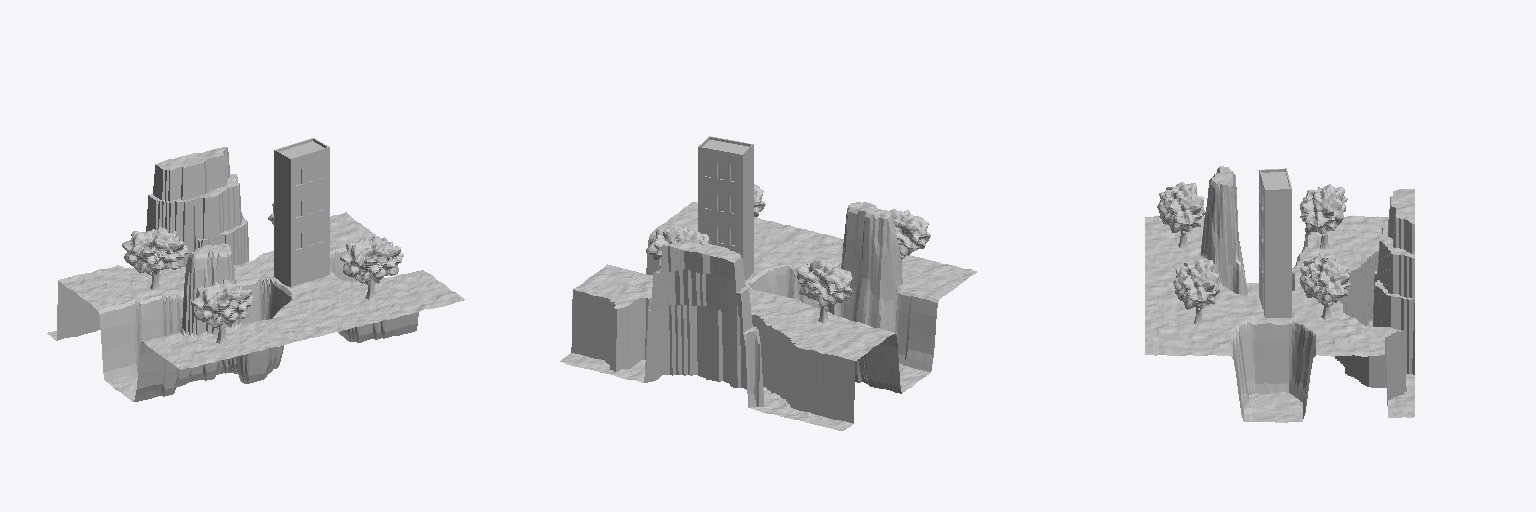
The model's file is chunk1.obj.
3 views of the same model, side by side, from view 1: azimuth 30°, elevation 25°; view 2: azimuth 150°, elevation 25°; view 3: azimuth 270°, elevation 25° (orthographic).
Visible parts, largest first — view 1: Terrain_Chunk_1, Terrain_Chunk_1_Sides, Building, Tree_Top.003, Tree_Top, Tree_Top.001; view 2: Terrain_Chunk_1, Terrain_Chunk_1_Sides, Building, Tree_Top.003, Tree_Top.001, Tree_Top.002; view 3: Terrain_Chunk_1, Building, Terrain_Chunk_1_Sides, Tree_Top.002, Tree_Top.001, Tree_Top, Tree_Top.003.
Boxes of the visible parts, box(x1,y1,x2,y2) form: Terrain_Chunk_1: box(83, 147, 438, 396); Terrain_Chunk_1_Sides: box(47, 212, 464, 401); Building: box(274, 138, 329, 286); Tree_Top.003: box(122, 227, 188, 275); Tree_Top: box(340, 235, 403, 283); Tree_Top.001: box(191, 279, 253, 327); Terrain_Chunk_1: box(584, 202, 950, 424); Terrain_Chunk_1_Sides: box(560, 202, 976, 430); Building: box(698, 136, 753, 279); Tree_Top.003: box(796, 259, 852, 307); Tree_Top.001: box(886, 209, 930, 256); Tree_Top.002: box(646, 226, 708, 266); Terrain_Chunk_1: box(1145, 166, 1414, 409); Building: box(1259, 168, 1291, 317); Terrain_Chunk_1_Sides: box(1145, 215, 1414, 422); Tree_Top.002: box(1300, 254, 1350, 304); Tree_Top.001: box(1157, 182, 1204, 232); Tree_Top: box(1173, 259, 1219, 309); Tree_Top.003: box(1300, 184, 1347, 233).
Size of the model in its own units: 48.93 by 32.19 by 40.